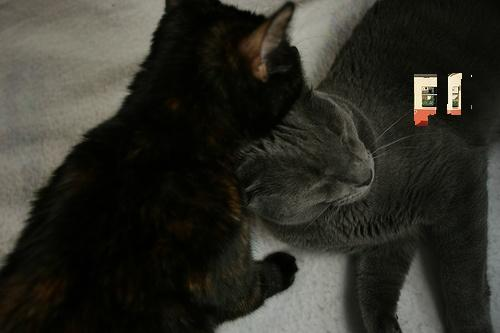tampered: (415, 74, 472, 126)
